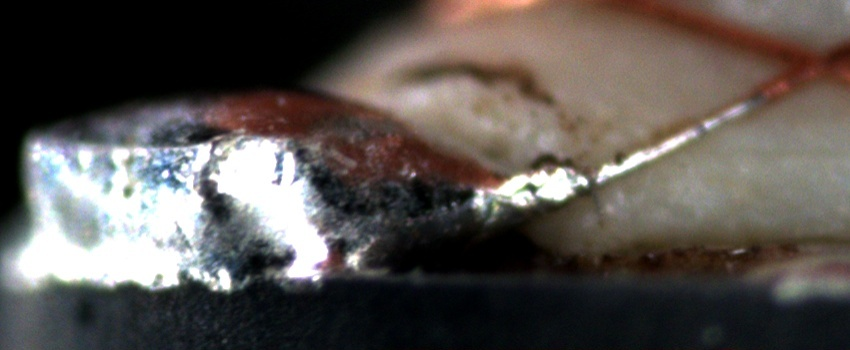CL: (766, 32, 838, 91)
DL: (706, 132, 850, 180)
TB: (481, 166, 593, 209)
TTCW: (445, 61, 825, 230)
